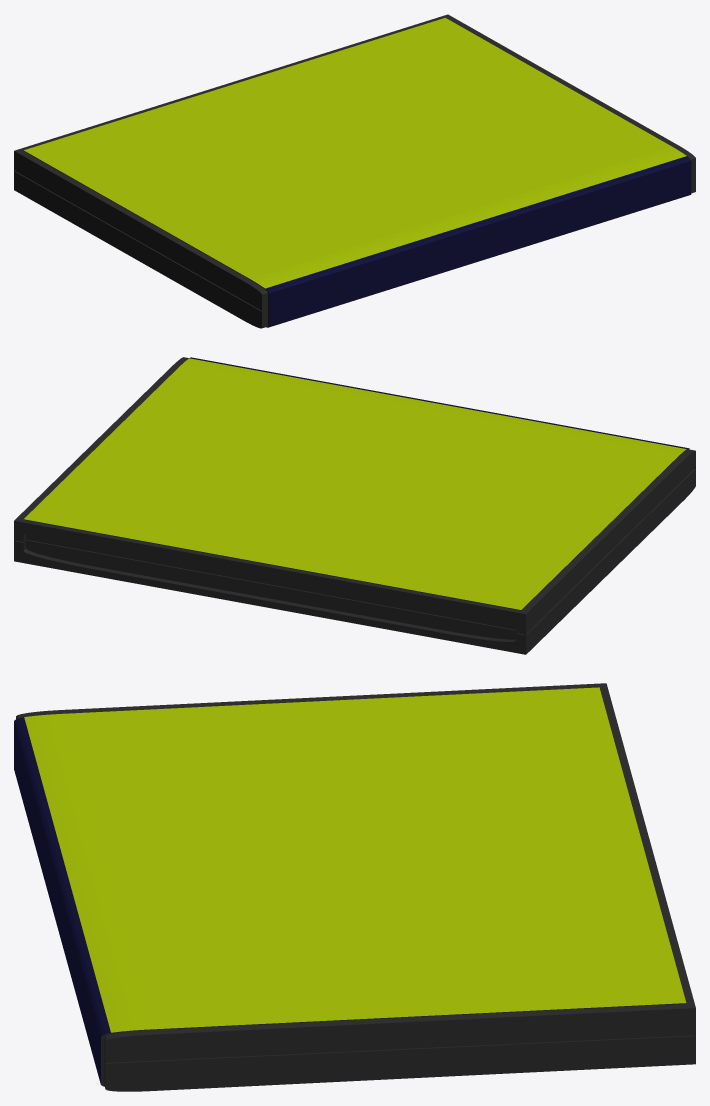
File: GameCase2.fbx
The picture shows the model from 3 angles, top to bottom: view 1: azimuth 30°, elevation 25°; view 2: azimuth 150°, elevation 25°; view 3: azimuth 270°, elevation 25°; orthographic projection. The views are drawn at different scales.
Parts seen in each view (by area): view 1: Games.002; view 2: Games.002; view 3: Games.002.
Part boxes in pixels (box(x1,y1,x2,y2)): Games.002: box(14, 14, 695, 328); Games.002: box(14, 357, 695, 654); Games.002: box(14, 683, 695, 1091).
Size of the model in its own units: 187 by 14.26 by 153.
